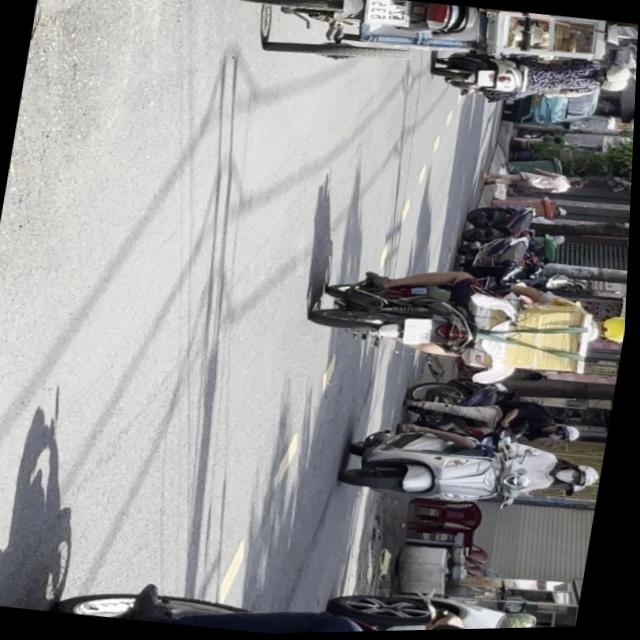helmet: (557, 464, 606, 492), (597, 315, 629, 346), (552, 424, 586, 446)
licenseplate: (0, 549, 584, 640), (306, 251, 631, 394), (340, 415, 611, 524), (402, 376, 594, 456)
nohelmet: (364, 0, 412, 30), (405, 317, 437, 348)
